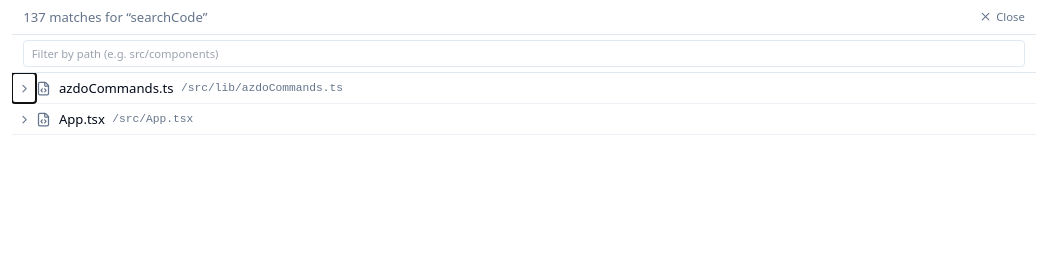
it: CodeSearchResults › expands a hit to preview the matching lines with context
Expected: the text "azdoCommands.ts" is shown, x1=59 y1=79 x2=174 y2=98
Click the 1st button named "Show matches" at (24, 88), box x1=12 y1=73 x2=36 y2=103
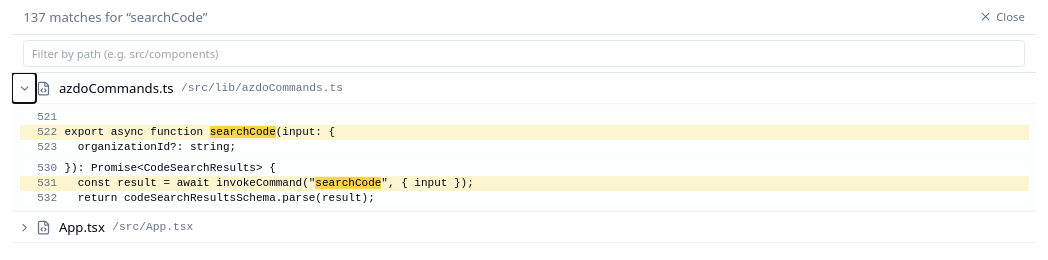
Now the text "530 }): Promise<CodeSearchResults> {" is shown, box x1=37 y1=162 x2=276 y2=174
